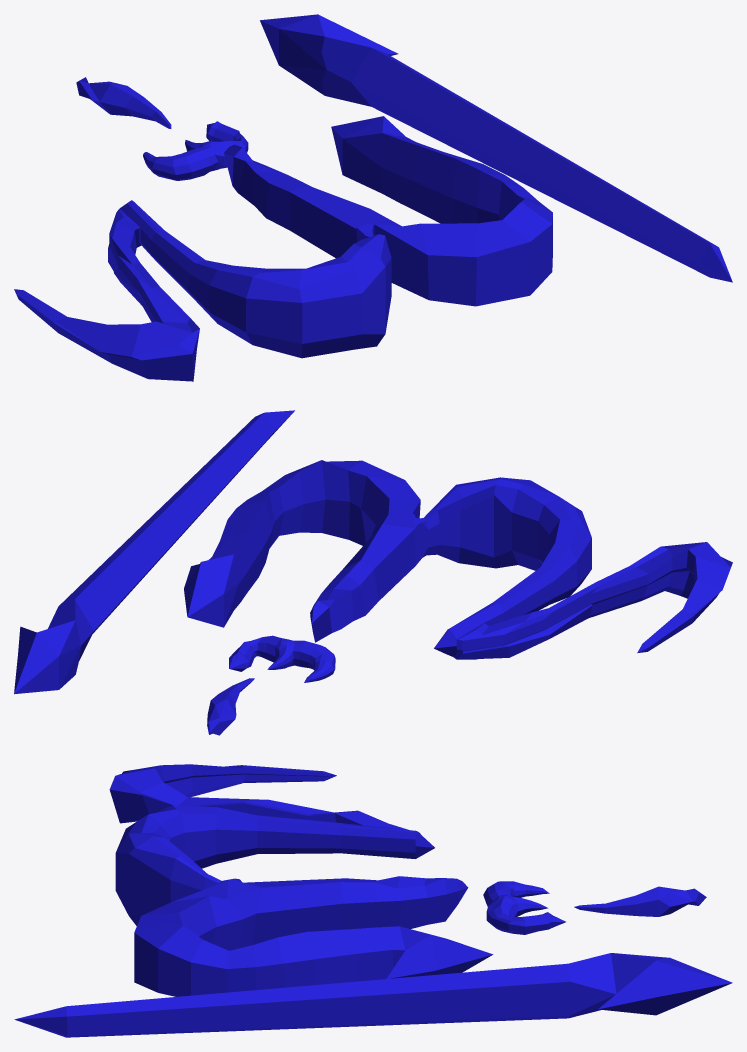
The model's file is arabic.glb.
3 renders of one model, top to bottom at view 1: azimuth 30°, elevation 25°; view 2: azimuth 150°, elevation 25°; view 3: azimuth 270°, elevation 25°, orthographic. The views are drawn at different scales.
Parts seen in each view (by area): view 1: allah_arabic; view 2: allah_arabic; view 3: allah_arabic.
Boxes of the visible parts, x1,y1,x2,y2 form: allah_arabic: (14,14,732,381); allah_arabic: (14,410,732,735); allah_arabic: (14,764,732,1037).
Size of the model in its own units: 17.13 by 2.75 by 20.24.
